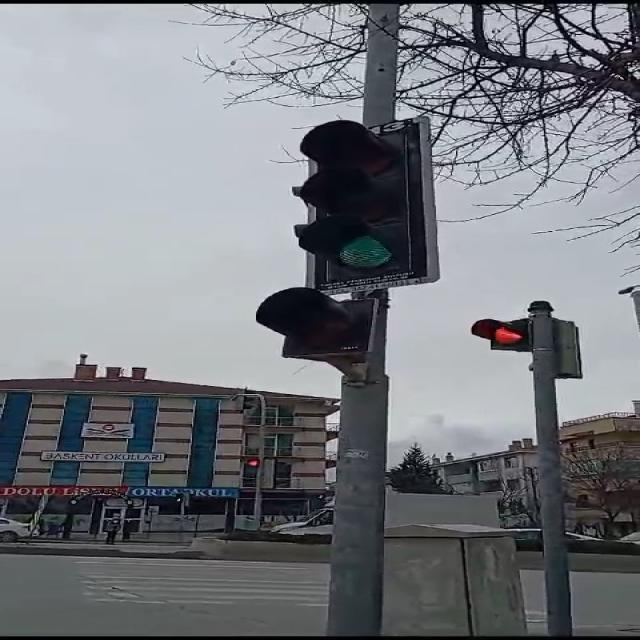yesil: (298, 120, 409, 286)
